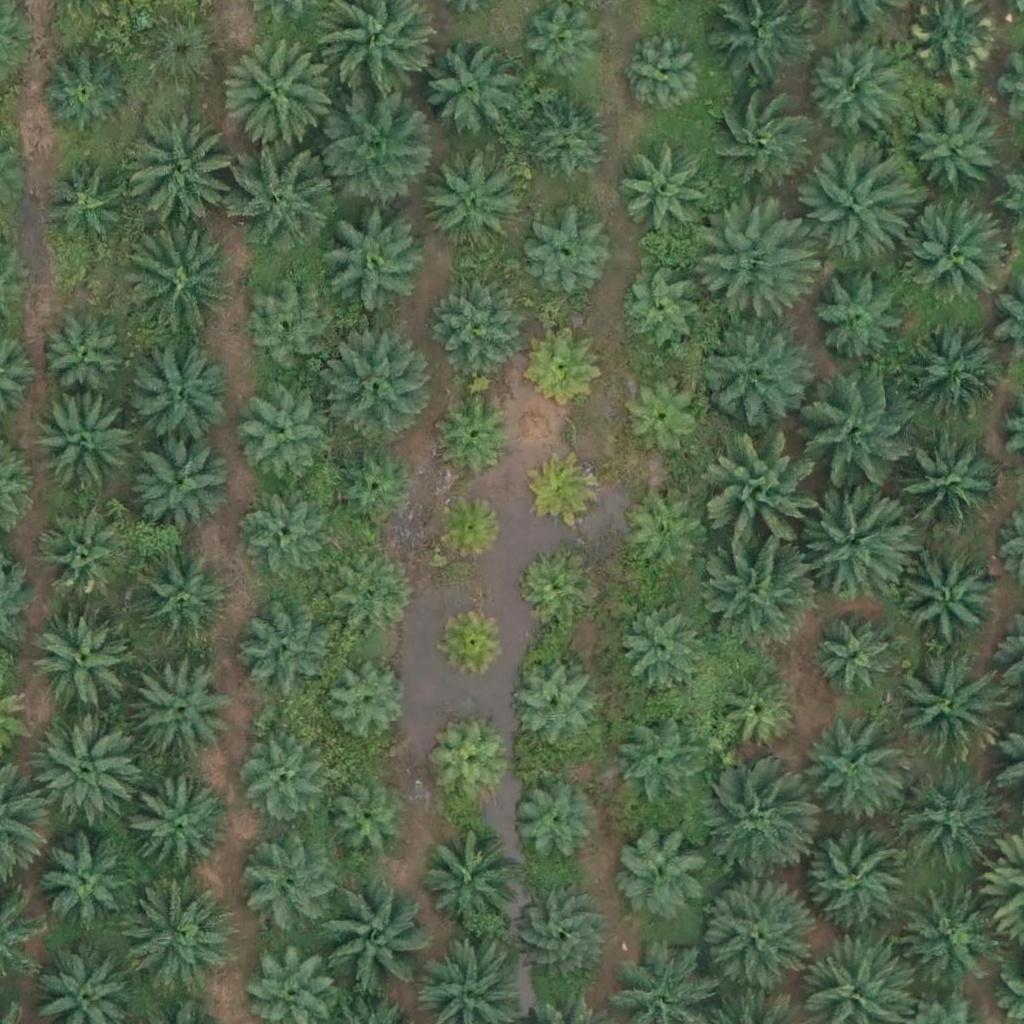Kelapa_Sawit: (888, 432, 1001, 546), (122, 117, 235, 231), (889, 651, 1002, 764), (893, 763, 1006, 876), (800, 818, 913, 931), (697, 879, 810, 992), (120, 776, 233, 889), (121, 885, 234, 998), (805, 378, 918, 491), (704, 536, 817, 649), (317, 94, 430, 207), (318, 204, 431, 317), (319, 327, 432, 440), (228, 140, 341, 253), (224, 36, 337, 149), (118, 231, 231, 344), (804, 155, 916, 269), (710, 440, 822, 554), (793, 719, 905, 832), (695, 770, 807, 883), (312, 881, 424, 994), (32, 720, 144, 833), (901, 201, 1013, 314), (800, 483, 912, 596), (697, 314, 809, 427), (697, 199, 809, 312), (701, 86, 813, 199), (897, 884, 997, 985), (418, 830, 518, 931), (242, 835, 342, 936), (131, 655, 231, 756), (38, 835, 138, 936), (900, 548, 1000, 649), (906, 99, 1006, 200), (805, 260, 905, 361), (616, 144, 716, 245), (420, 148, 520, 249), (127, 347, 227, 448), (132, 430, 232, 531), (32, 603, 132, 704), (131, 547, 231, 648), (238, 599, 338, 700), (34, 395, 134, 496), (612, 820, 712, 920), (510, 888, 610, 988), (901, 326, 1001, 426), (800, 42, 900, 142), (419, 43, 519, 143), (618, 30, 706, 119), (712, 669, 800, 757), (507, 662, 595, 750), (233, 734, 321, 822), (329, 442, 417, 530), (329, 560, 417, 648), (812, 614, 900, 702), (132, 10, 220, 98), (37, 156, 125, 244), (615, 370, 703, 458), (620, 493, 708, 581), (239, 398, 327, 486), (240, 490, 328, 578), (42, 49, 130, 137), (42, 306, 130, 394), (612, 719, 699, 808), (509, 778, 596, 866), (325, 658, 412, 746), (322, 782, 409, 870), (523, 98, 610, 186), (618, 268, 705, 356), (619, 602, 706, 690), (433, 278, 520, 366), (520, 209, 607, 297), (245, 287, 332, 375), (37, 512, 124, 600), (514, 548, 589, 624), (431, 728, 506, 804), (436, 601, 511, 677), (529, 452, 604, 528), (439, 394, 514, 469), (431, 491, 506, 566), (529, 330, 604, 405)
